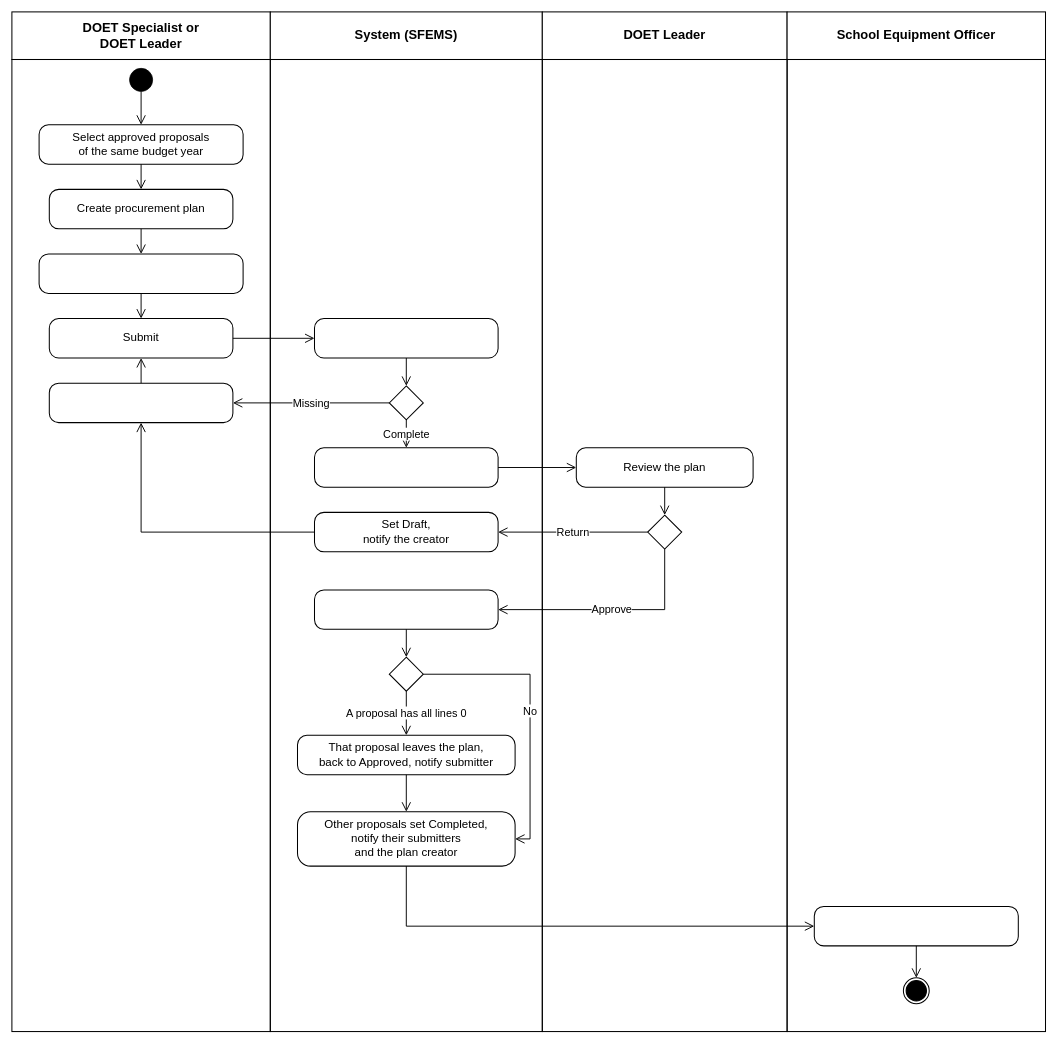
The diagram is 1058 pixels wide and 1044 high, and some of its shapes have lost their labels. Each missing label, with the centre of its shape:
"Adjust planned quantity and unit price per line" belongs at (x=140, y=273).
"Check the plan" belongs at (x=406, y=338).
"Create intake voucher when the goods arrive (BF-03)" belongs at (x=916, y=926).
"Edit the plan" belongs at (x=140, y=402).
"Set Pending approval, notify the DOET Leader" belongs at (x=406, y=467).
"Set the plan Approved" belongs at (x=406, y=609).
